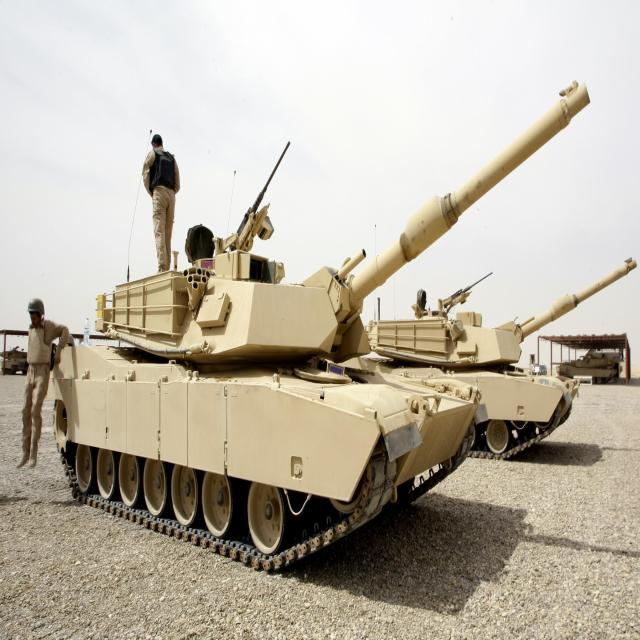Tanks: (44, 209, 474, 576), (365, 279, 561, 478)
